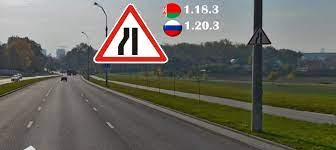1.18.3: (95, 3, 170, 63)
